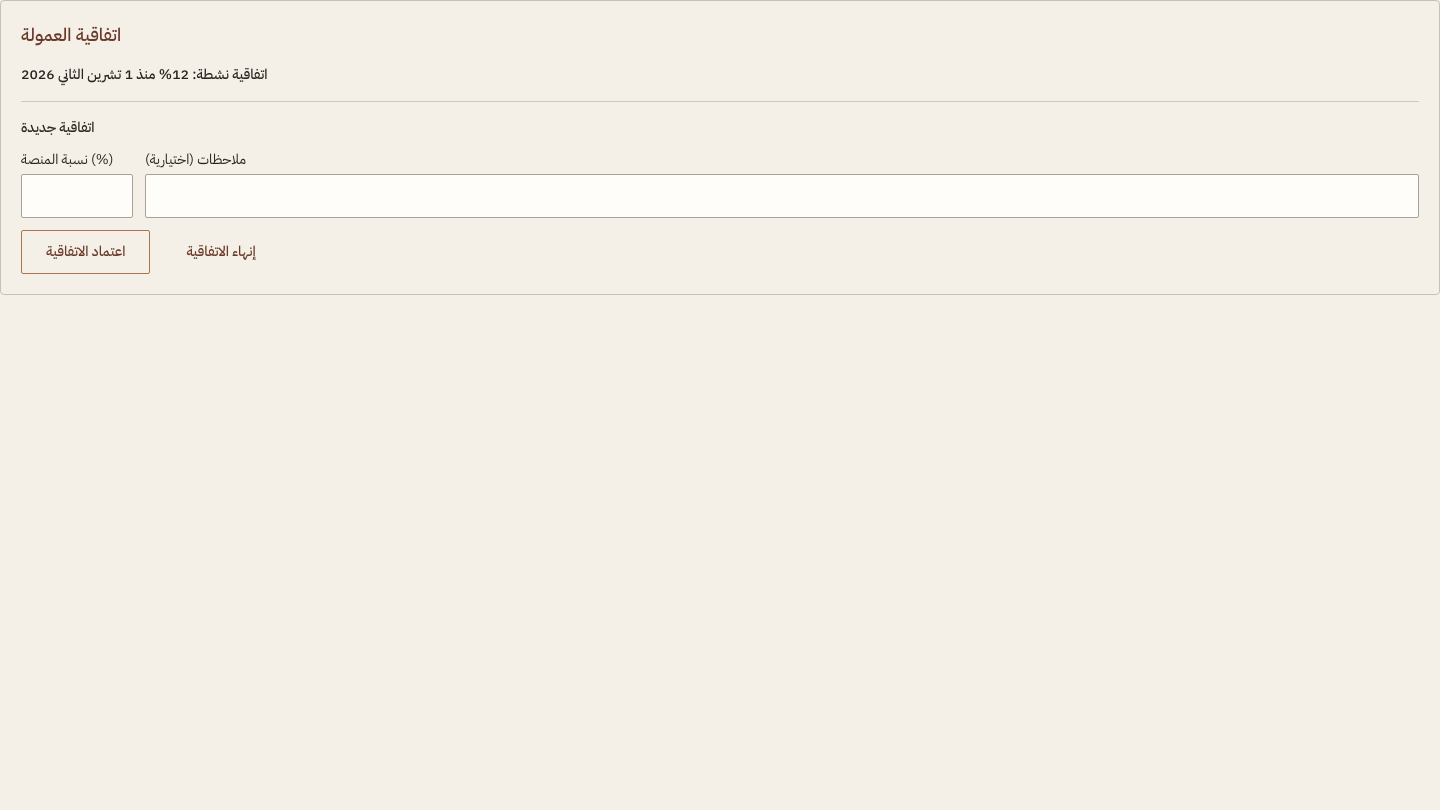
Test: AgreementsPanel › asks the Super Admin to confirm a replacement and its scope
Type "150" into the field labelled "نسبة المنصة (%)" at (77,196), box [21,174,133,218]
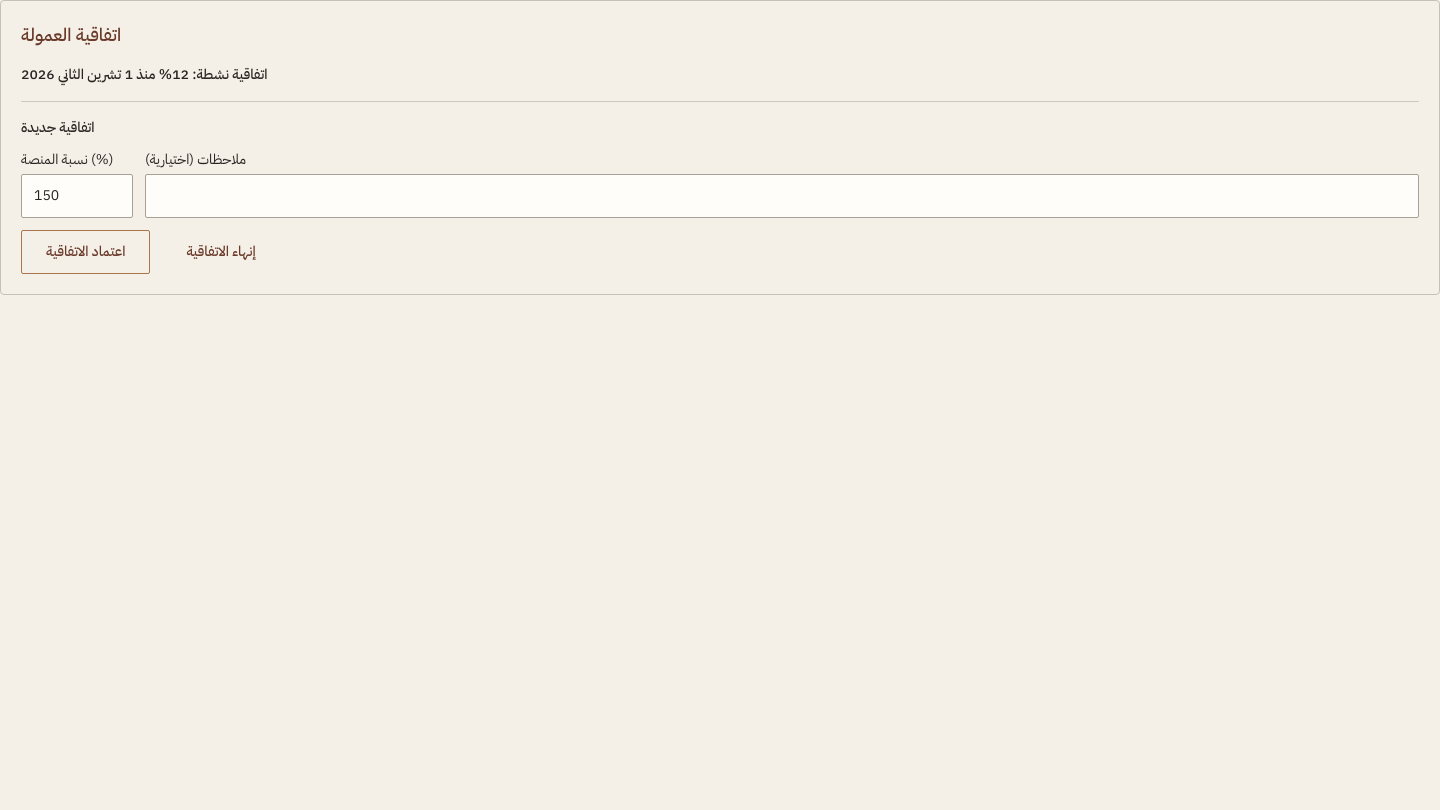
Click the button "اعتماد الاتفاقية" at (86,252), box [21,230,150,274]
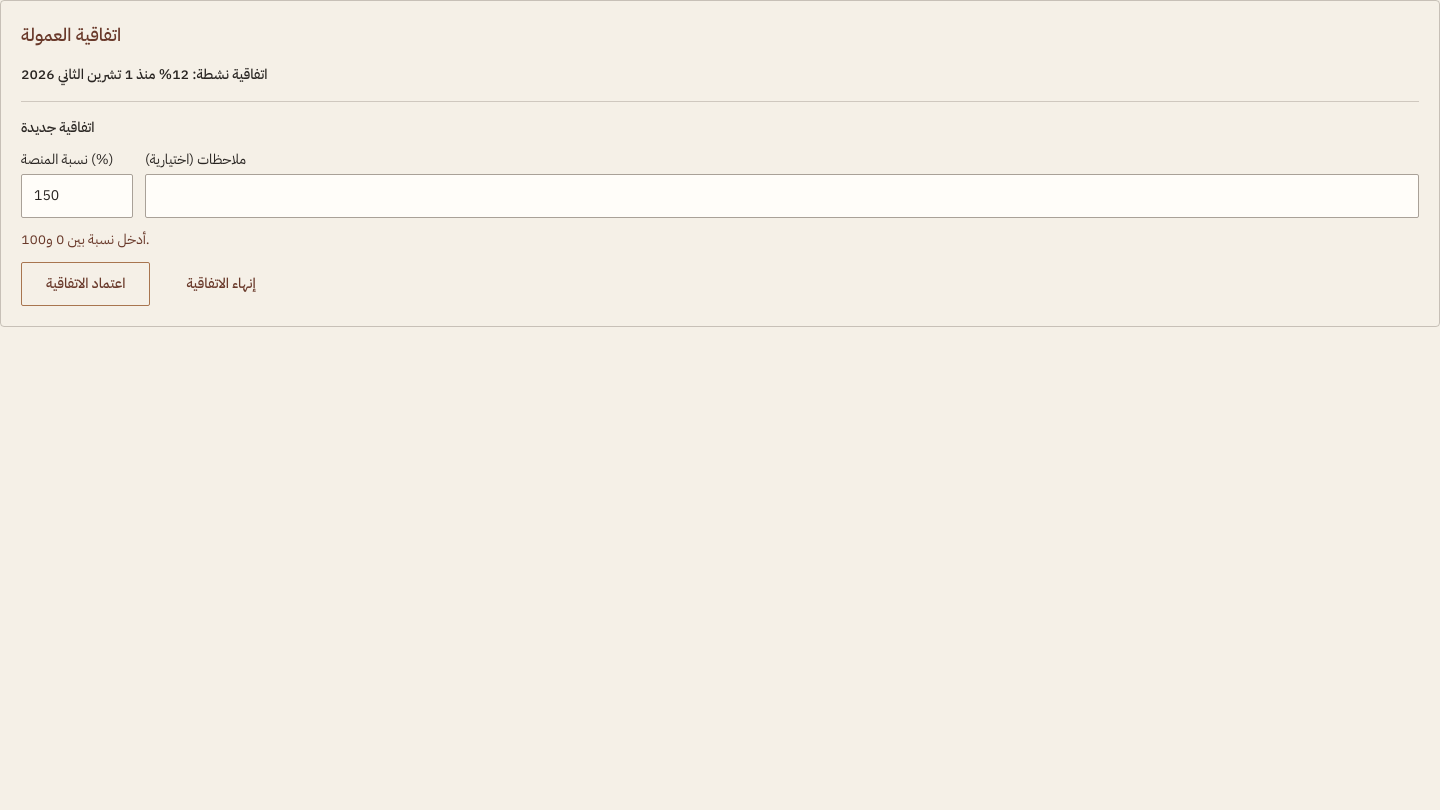
Check: the text "أدخل نسبة بين 0 و100." is shown, box [21,229,150,250]
Replace the text in the field labelled "نسبة المنصة (%)" with "10" at (77,196), box [21,174,133,218]
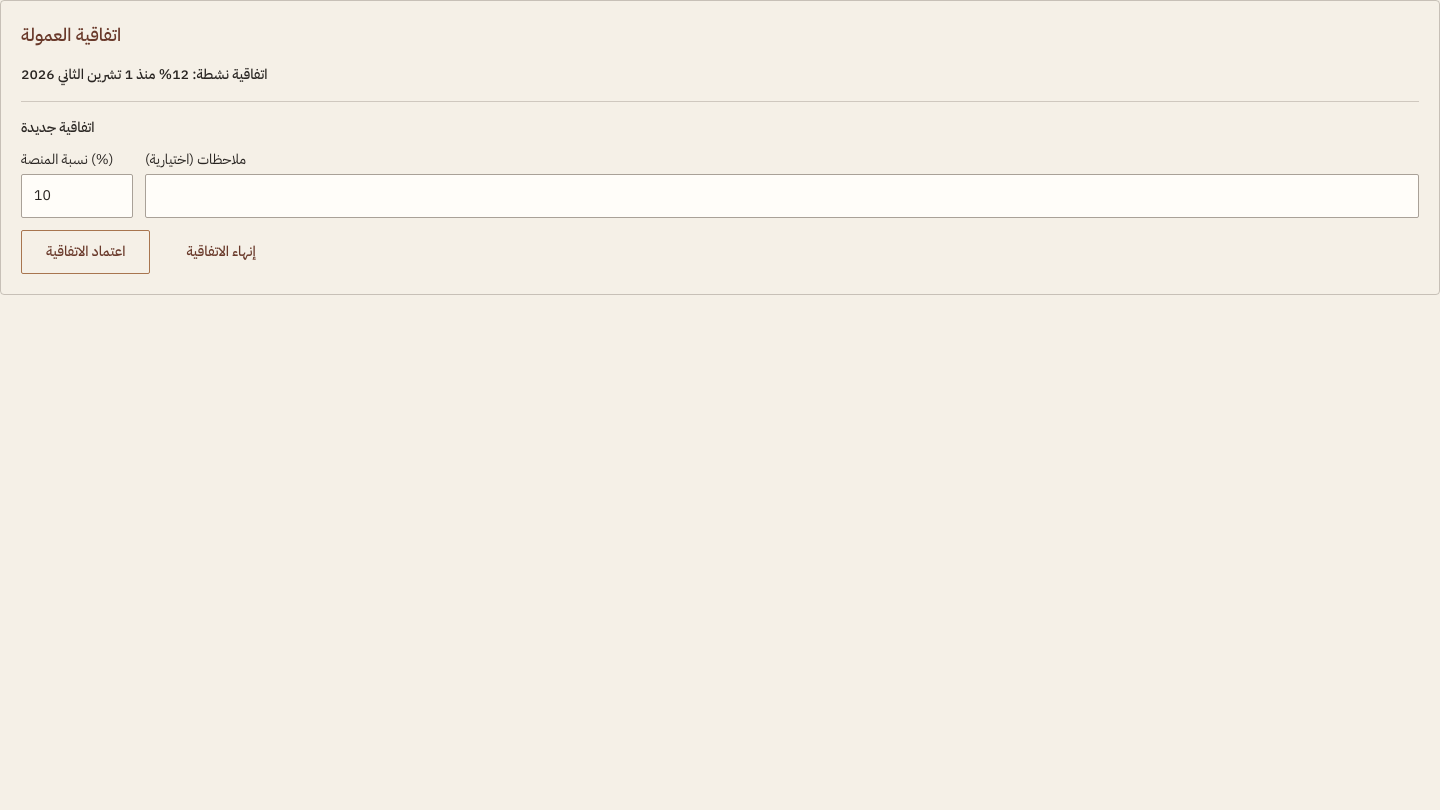
Click the button "اعتماد الاتفاقية" at (86,252), box [21,230,150,274]
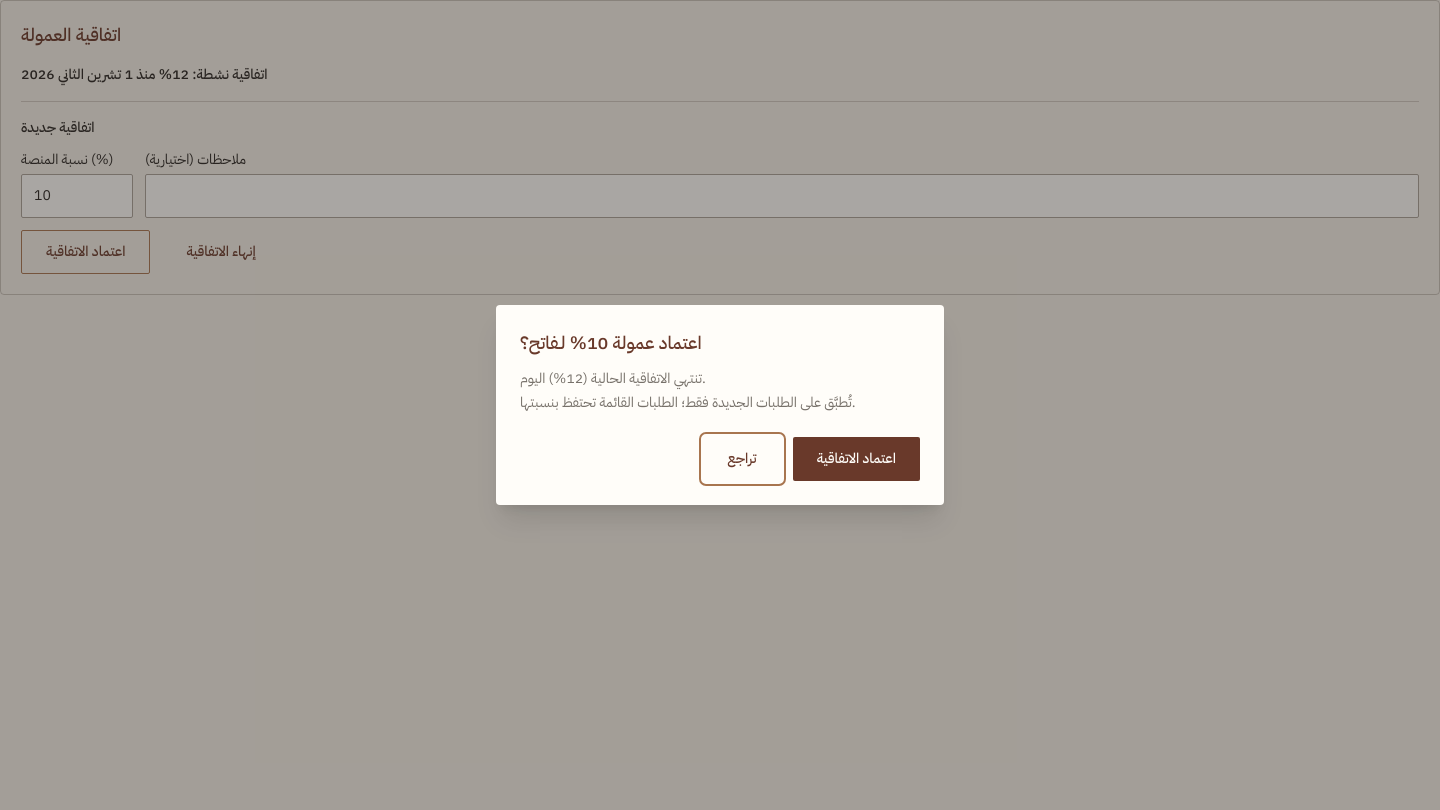
Check: the text "تنتهي الاتفاقية الحالية (12%) اليوم." is shown, box [520,368,706,389]
Check: the text "الطلبات القائمة تحتفظ بنسبتها" is shown, box [520,392,856,413]
Click the button "اعتماد الاتفاقية" at (856,459), box [793,437,920,481]
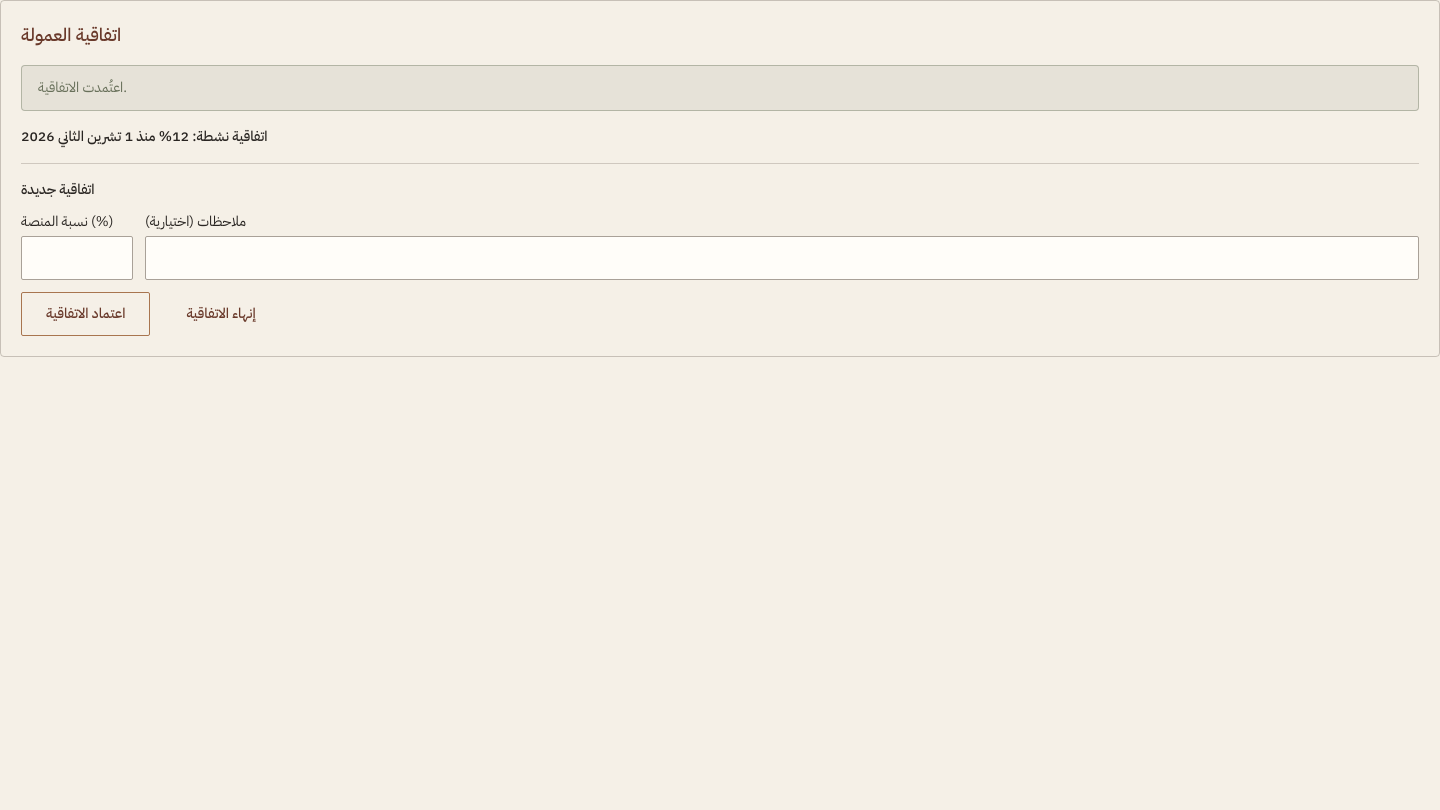
Check: the text "اعتُمدت الاتفاقية." is shown, box [21,65,1419,111]
